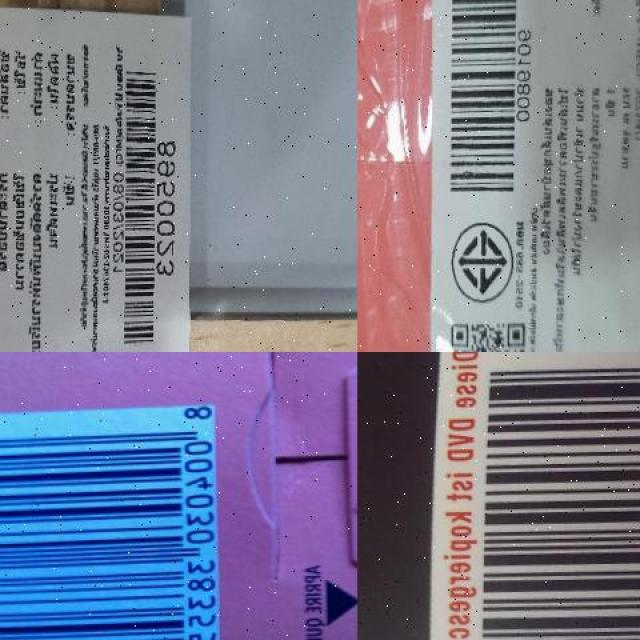Barcode: (425, 352, 640, 640), (0, 402, 220, 640), (441, 0, 531, 208), (116, 55, 177, 352)
